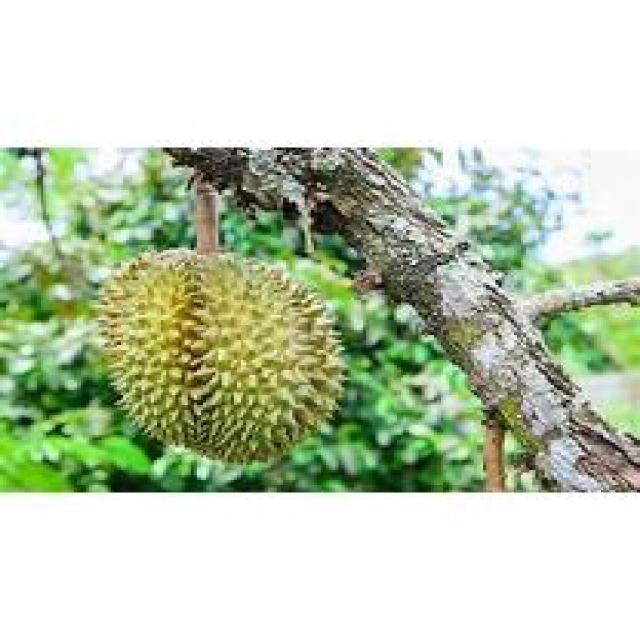fruit: (77, 232, 360, 472)
